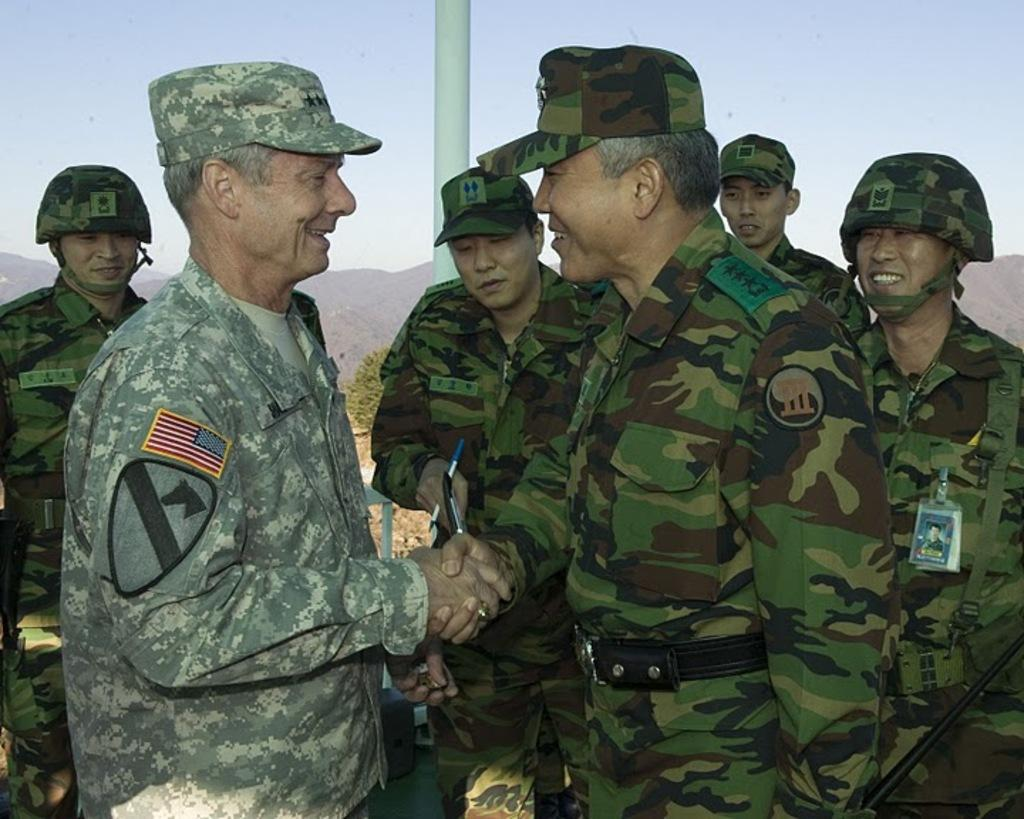Hat: (478, 41, 700, 176), (148, 59, 380, 166), (432, 163, 537, 244), (716, 128, 794, 196)
